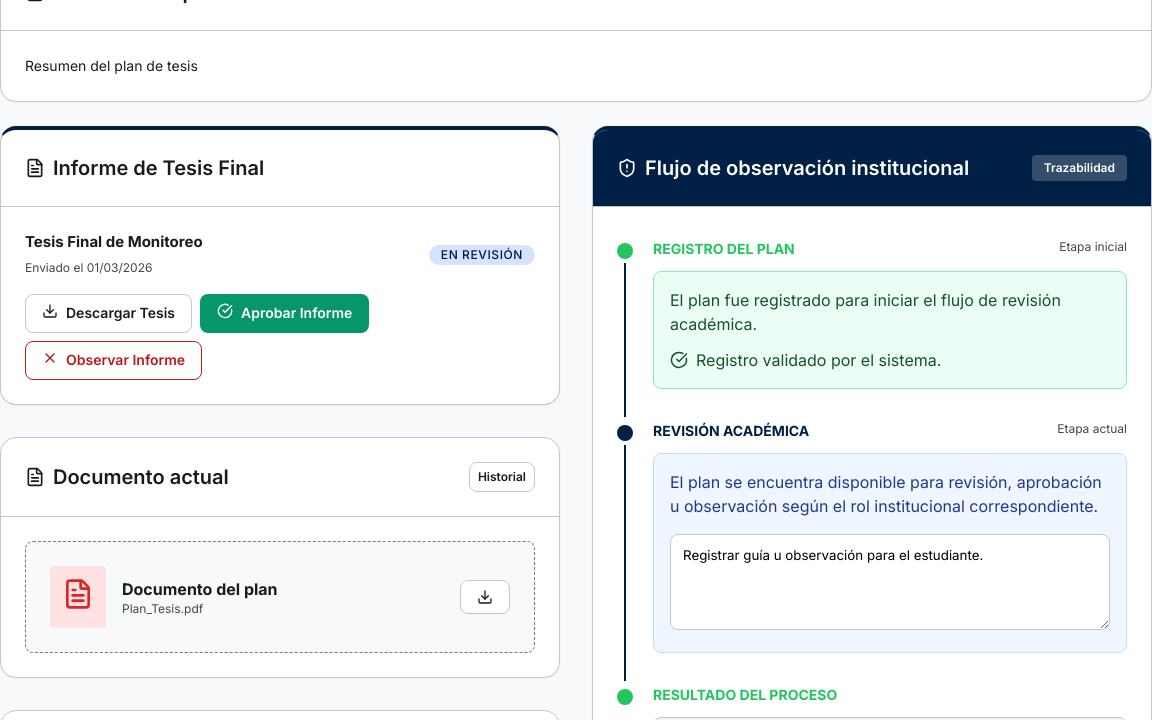
Scenario: ThesisTraceability › opens observe report modal
This screenshot has width=1152, height=720.
Click the button "Observar Informe" at (114, 360), box [25,341,202,380]
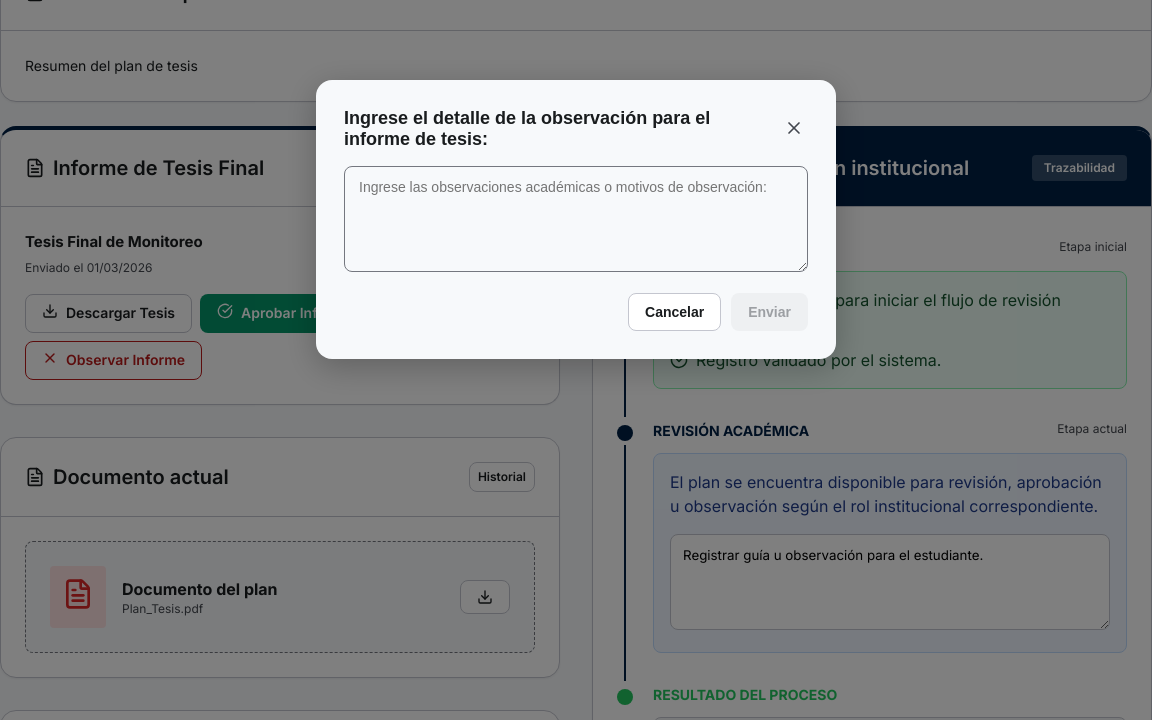
Expected: the heading "detalle de la observación para el informe" is shown, [344,108,710,149]
